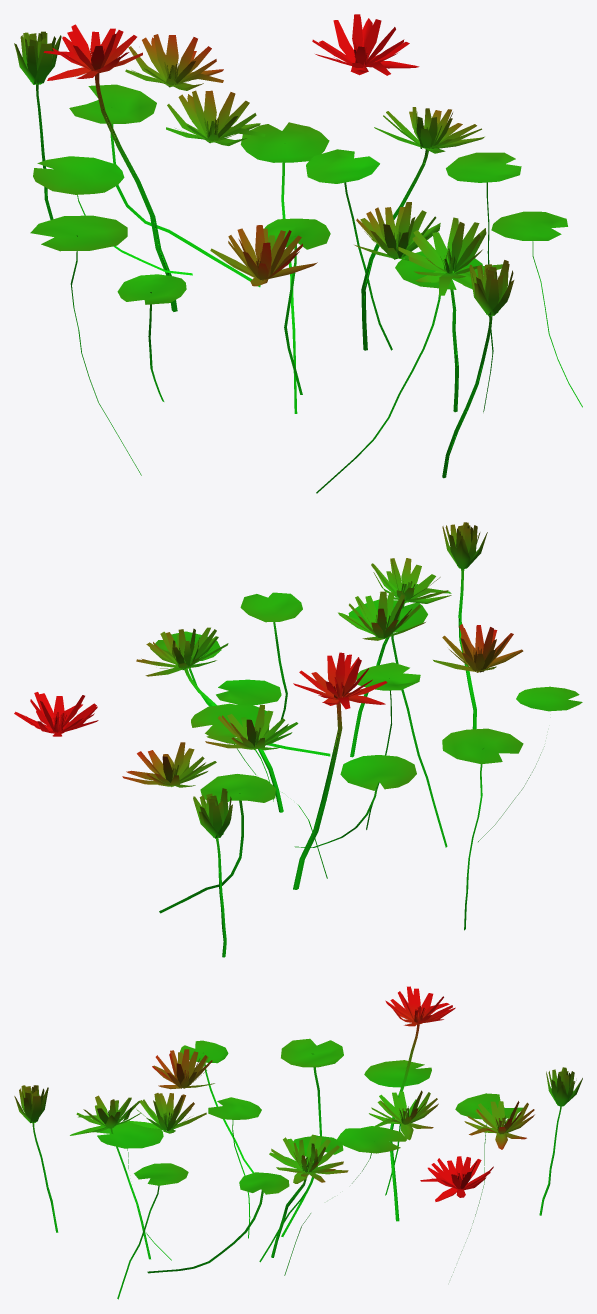
The model's file is Carolana Water Lily_LOD1_Var6_uc2jdibia.fbx.
3 views of the same model, one above another, from view 1: azimuth 30°, elevation 25°; view 2: azimuth 150°, elevation 25°; view 3: azimuth 270°, elevation 25° (orthographic). The views are drawn at different scales.
Parts seen in each view (by area): view 1: merge1; view 2: merge1; view 3: merge1.
Boxes of the visible parts, x1=… form: merge1: x1=14, y1=14, x2=582, y2=493; merge1: x1=14, y1=522, x2=582, y2=957; merge1: x1=14, y1=986, x2=582, y2=1299.
Size of the model in its own units: 140 by 103 by 203.
